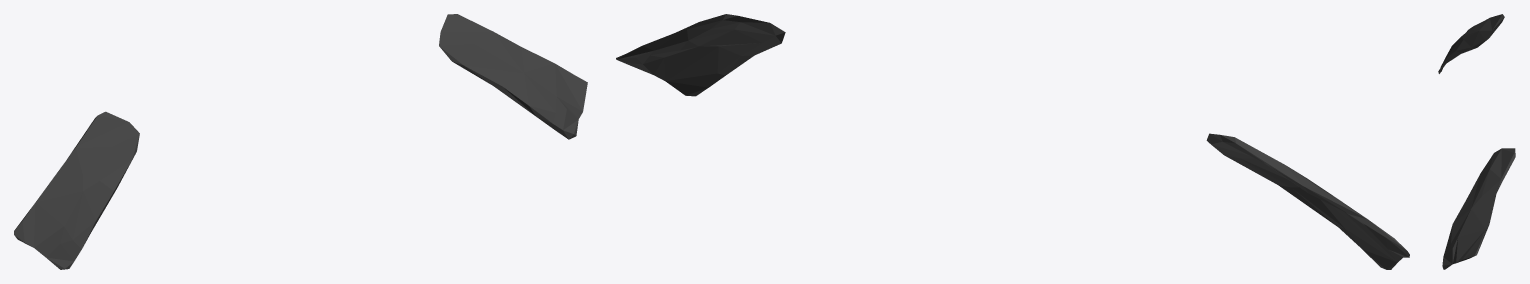
File: m_levator_anguli_oculi_medialis.glb
The picture shows the model from 3 angles, left to right: view 1: azimuth 30°, elevation 25°; view 2: azimuth 150°, elevation 25°; view 3: azimuth 270°, elevation 25°; orthographic projection. The views are drawn at different scales.
Visible parts, largest first — view 1: m_levator_anguli_oculi_medialis; view 2: m_levator_anguli_oculi_medialis; view 3: m_levator_anguli_oculi_medialis.
Boxes of the visible parts, x1,y1,x2,y2 form: m_levator_anguli_oculi_medialis: (14, 14, 587, 269); m_levator_anguli_oculi_medialis: (616, 14, 1409, 269); m_levator_anguli_oculi_medialis: (1438, 14, 1515, 269).
Bounding box in the file's own units: 0.00266 × 0.000509 × 0.000382.
Materials: 1 (1 with a texture image).
